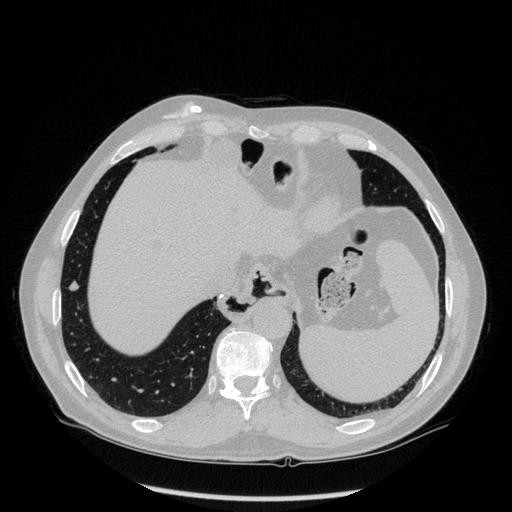nodule: (67, 278, 82, 293)
